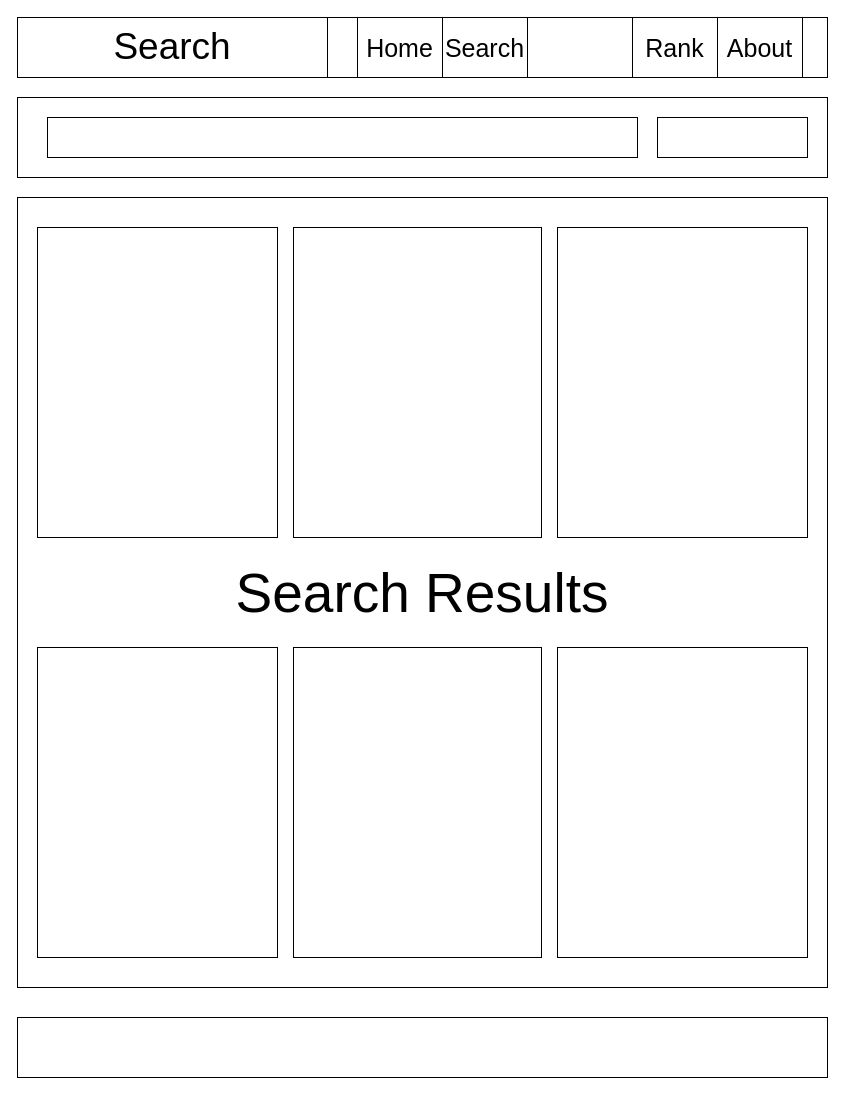
The diagram is 845 pixels wide and 1095 high, and some of its shapes have lost their labels. Each missing label, with the box of its shape:
Search Box: (46, 116, 638, 158)
Search Button: (656, 116, 808, 158)
Trending: (526, 16, 632, 78)
